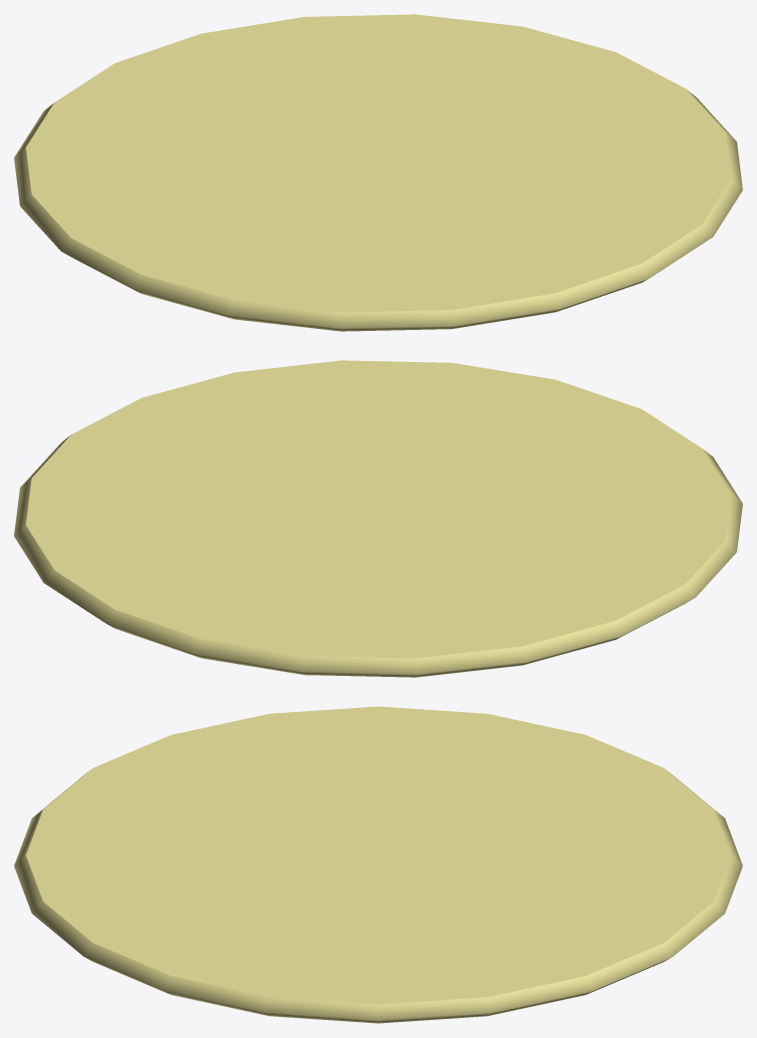
File: circle_Rug.fbx
3 views of the same model, one above another, from view 1: azimuth 30°, elevation 25°; view 2: azimuth 150°, elevation 25°; view 3: azimuth 270°, elevation 25° (orthographic).
Parts seen in each view (by area): view 1: pCylinder2; view 2: pCylinder2; view 3: pCylinder2.
Boxes of the visible parts, bbox=[...] form: pCylinder2: bbox=[14, 14, 742, 331]; pCylinder2: bbox=[14, 360, 742, 677]; pCylinder2: bbox=[14, 706, 742, 1023].
Bounding box in the file's own units: 2.93 × 0.0845 × 2.93.
